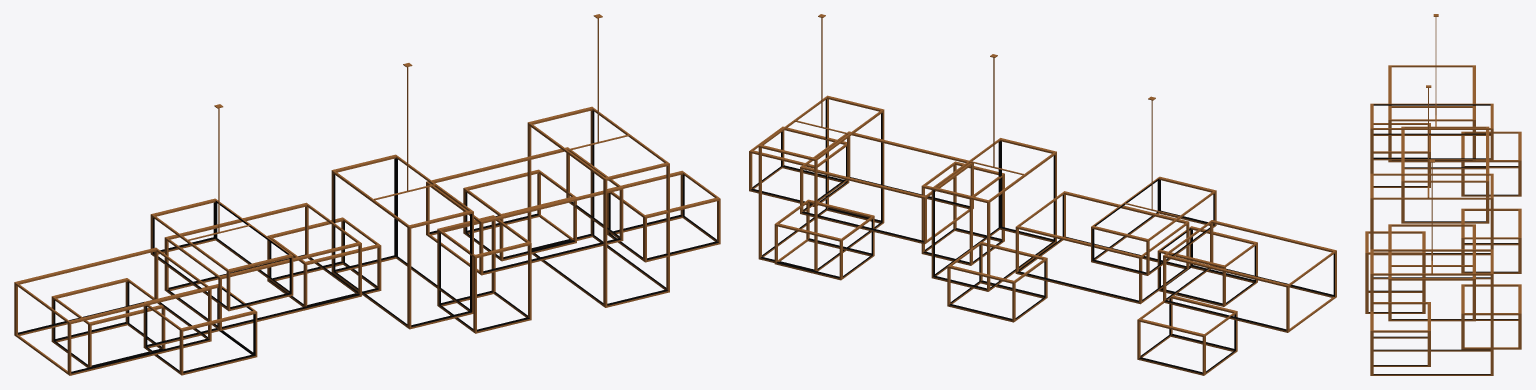
File: Chandelier.FBX
3 views of the same model, side by side, from view 1: azimuth 30°, elevation 25°; view 2: azimuth 150°, elevation 25°; view 3: azimuth 270°, elevation 25° (orthographic). The views are drawn at different scales.
Visible parts, largest first — view 1: Object001, Rectangle184, Rectangle179, Rectangle204, Rectangle183, Rectangle206, Rectangle210, Rectangle198, Rectangle212, Rectangle215, Rectangle203, Rectangle182 (+21 smaller); view 2: Object001, Rectangle179, Rectangle184, Rectangle206, Rectangle183, Rectangle204, Rectangle210, Rectangle198, Rectangle212, Rectangle178, Rectangle182, Rectangle203 (+20 smaller); view 3: Object001, Rectangle198, Rectangle183, Rectangle179, Rectangle182, Rectangle207, Rectangle211, Rectangle206, Rectangle192, Rectangle215, Rectangle210, Rectangle216 (+26 smaller).
Boxes of the visible parts, <box> form: Object001: <box>607,170,720,262</box>; Rectangle184: <box>527,123,607,306</box>; Rectangle179: <box>426,147,623,223</box>; Rectangle204: <box>331,170,411,329</box>; Rectangle183: <box>590,106,669,290</box>; Rectangle206: <box>167,203,361,279</box>; Rectangle210: <box>16,248,211,324</box>; Rectangle198: <box>394,154,473,312</box>; Rectangle212: <box>18,302,211,375</box>; Rectangle215: <box>150,214,230,310</box>; Rectangle203: <box>332,155,473,228</box>; Rectangle182: <box>528,107,669,180</box>; Object001: <box>749,126,849,206</box>; Rectangle179: <box>800,131,971,198</box>; Rectangle184: <box>814,110,884,270</box>; Rectangle206: <box>1017,191,1187,258</box>; Rectangle183: <box>758,95,828,259</box>; Rectangle204: <box>987,152,1056,291</box>; Rectangle210: <box>1164,220,1334,286</box>; Rectangle198: <box>931,138,1001,276</box>; Rectangle212: <box>1164,266,1333,332</box>; Rectangle178: <box>801,177,969,243</box>; Rectangle182: <box>760,96,883,160</box>; Rectangle203: <box>933,138,1056,202</box>; Object001: <box>1370,302,1430,366</box>; Rectangle198: <box>1370,197,1493,279</box>; Rectangle183: <box>1370,273,1493,375</box>; Rectangle179: <box>1388,224,1475,280</box>; Rectangle182: <box>1370,249,1493,275</box>; Rectangle207: <box>1401,180,1489,223</box>; Rectangle211: <box>1388,119,1475,162</box>; Rectangle206: <box>1401,127,1489,182</box>; Rectangle192: <box>1365,254,1425,313</box>; Rectangle215: <box>1370,103,1493,134</box>; Rectangle210: <box>1388,66,1475,119</box>; Rectangle216: <box>1370,134,1493,160</box>.
Bounding box in the file's own units: 3559 × 1361 × 953.
